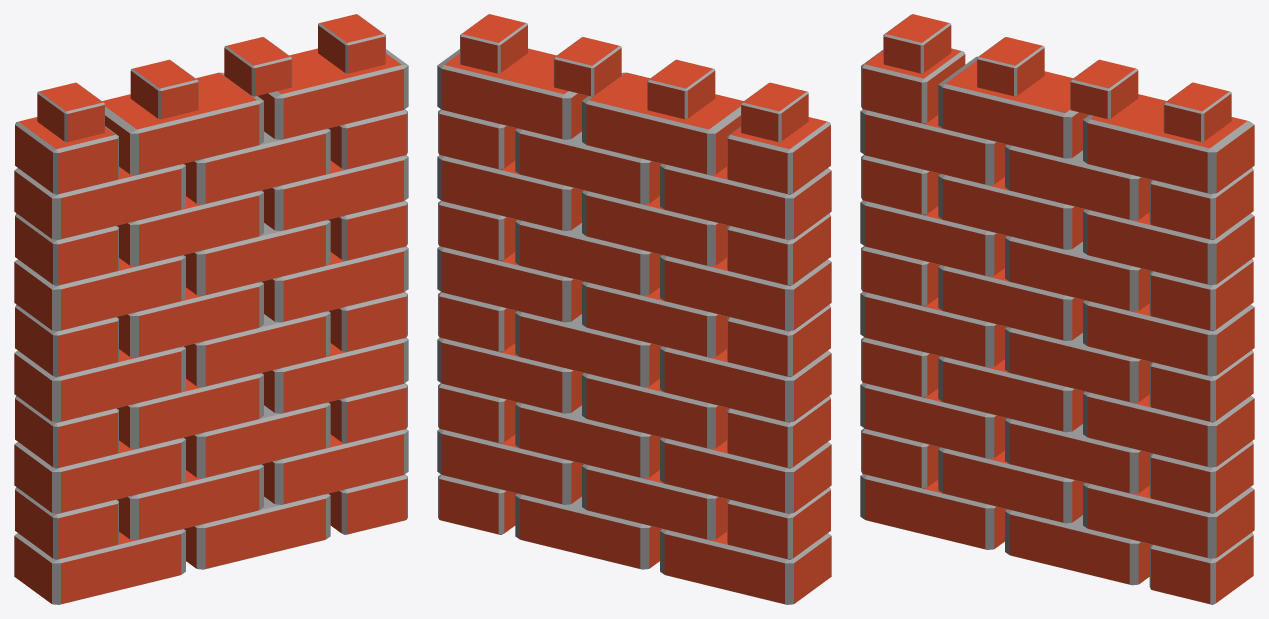
Rendered from fencelvl2.fbx.
3 renders of one model, left to right at view 1: azimuth 30°, elevation 25°; view 2: azimuth 150°, elevation 25°; view 3: azimuth 330°, elevation 25°, orthographic.
Visible parts, largest first — view 1: Cube.008, Cube.007; view 2: Cube.008, Cube.007; view 3: Cube.008, Cube.007.
Boxes of the visible parts, x1,y1,x2,y2 form: Cube.008: (14,48,408,604); Cube.007: (37,14,385,142); Cube.008: (437,48,831,604); Cube.007: (460,14,808,142); Cube.008: (860,48,1254,604); Cube.007: (883,14,1231,141).
Bounding box in the file's own units: 197 × 257 × 40.43.
